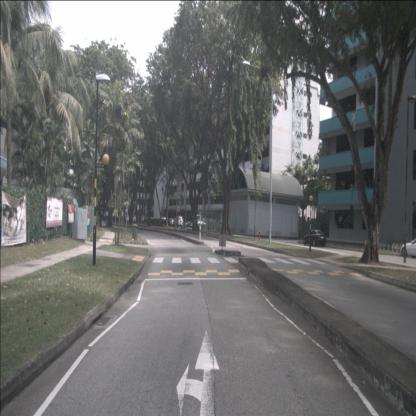cone: (365, 240, 367, 253)
